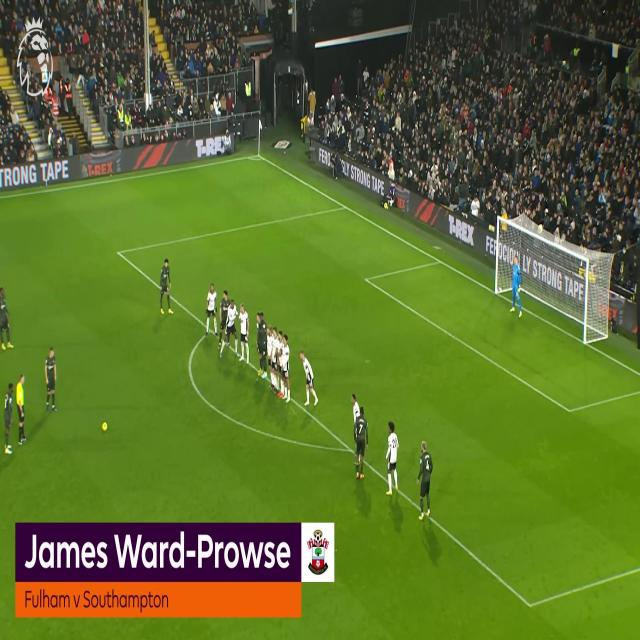left-top: (500, 217, 544, 245)
soccer-goal: (498, 218, 584, 340)
